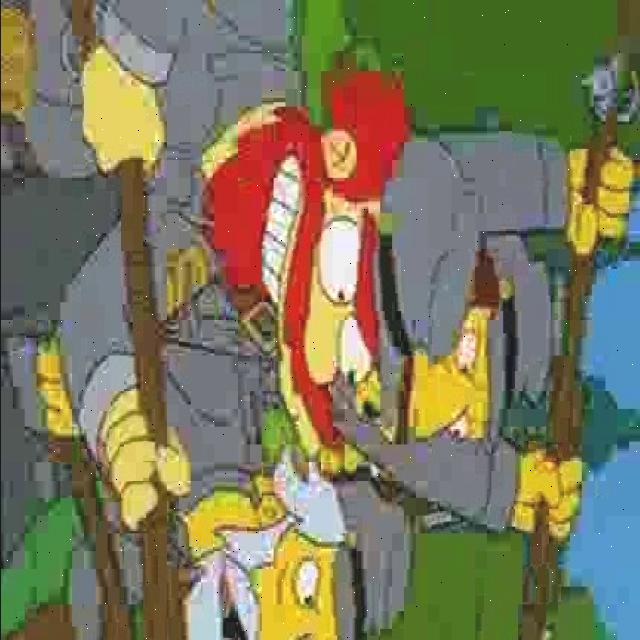Groundskeeper Willie: (198, 61, 416, 455)
